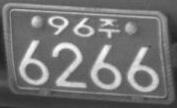2: (52, 40, 87, 89)
6: (89, 43, 122, 90), (127, 45, 160, 92), (18, 39, 49, 85), (72, 16, 94, 37)
9: (47, 15, 68, 35)
주: (98, 17, 120, 39)
